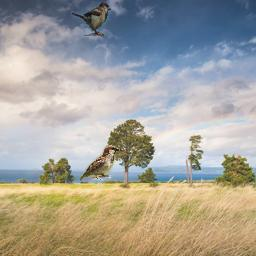Sparrow: (80, 145, 120, 181), (71, 2, 111, 36)
